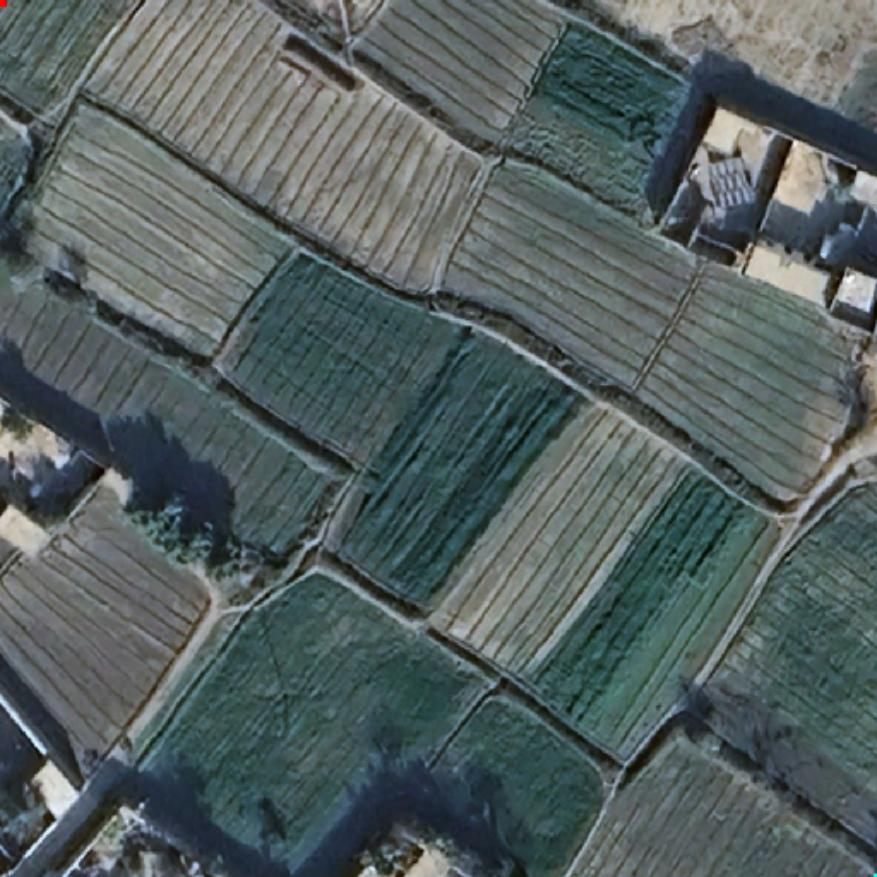Solarpanel: (695, 154, 759, 212)
